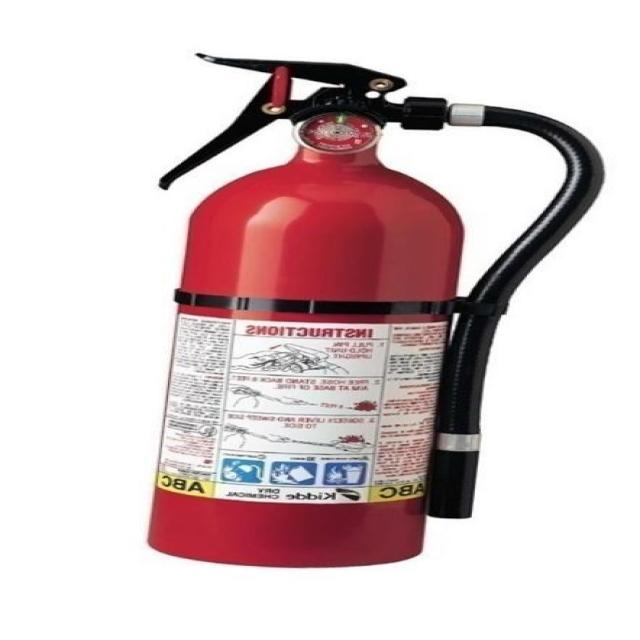fire_extinguisher: (134, 47, 616, 573)
